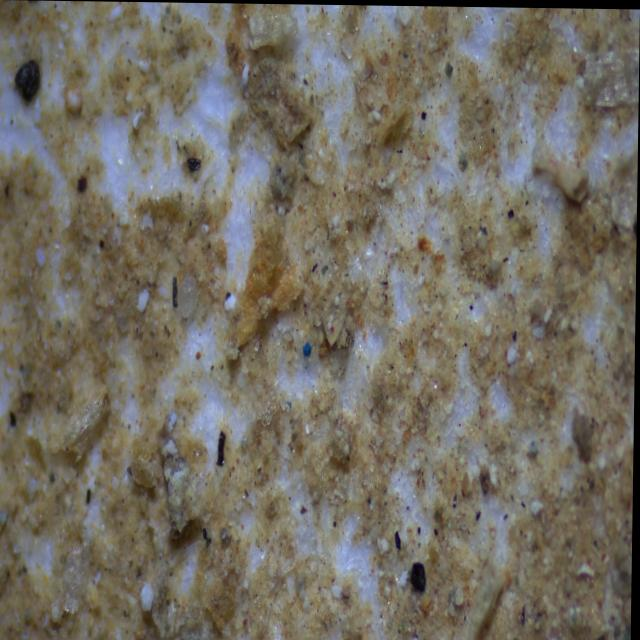microplastic: (305, 341, 313, 357)
